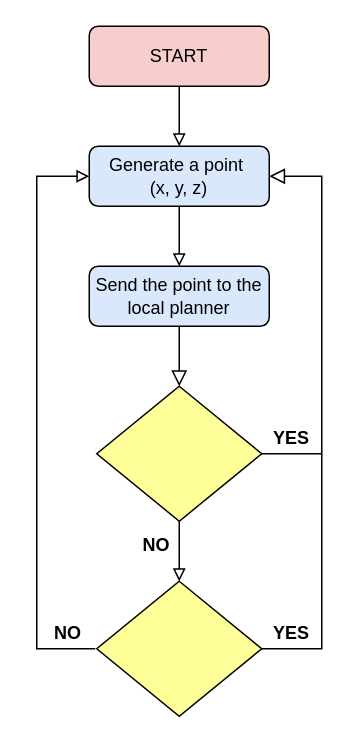
Some shapes in this 363 by 743 pixel diagram are drawn without their labels. Each missing label, with the centre of its shape:
Has a random time passed?: point (178, 648)
Has the point been visited?: point (178, 453)
